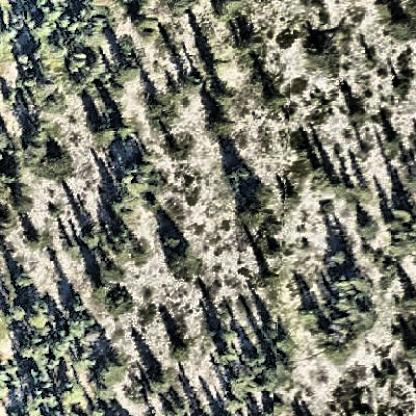tree-top: (124, 158, 168, 199), (162, 238, 201, 274), (104, 284, 137, 318), (237, 196, 270, 228), (87, 124, 116, 154), (206, 113, 236, 141), (145, 368, 172, 395), (61, 382, 86, 408), (224, 372, 251, 396), (71, 304, 94, 332), (217, 84, 240, 111), (112, 124, 139, 146), (357, 216, 382, 239), (49, 149, 71, 174), (333, 249, 355, 271), (35, 23, 59, 43), (56, 338, 80, 357), (390, 220, 415, 238), (171, 340, 191, 362), (31, 307, 51, 328), (355, 273, 374, 295), (398, 15, 416, 38), (276, 338, 299, 356), (360, 302, 381, 321), (38, 82, 60, 99), (14, 198, 34, 216), (18, 273, 37, 291), (251, 354, 269, 372), (12, 307, 28, 327), (19, 344, 37, 361), (274, 91, 289, 111), (85, 233, 102, 250), (33, 233, 47, 250), (14, 53, 30, 67), (268, 273, 281, 286)
